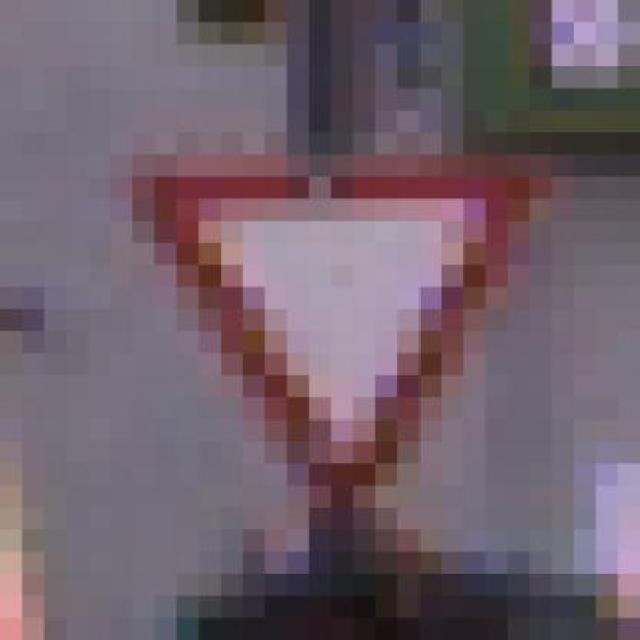Give Way: (88, 110, 574, 552)
